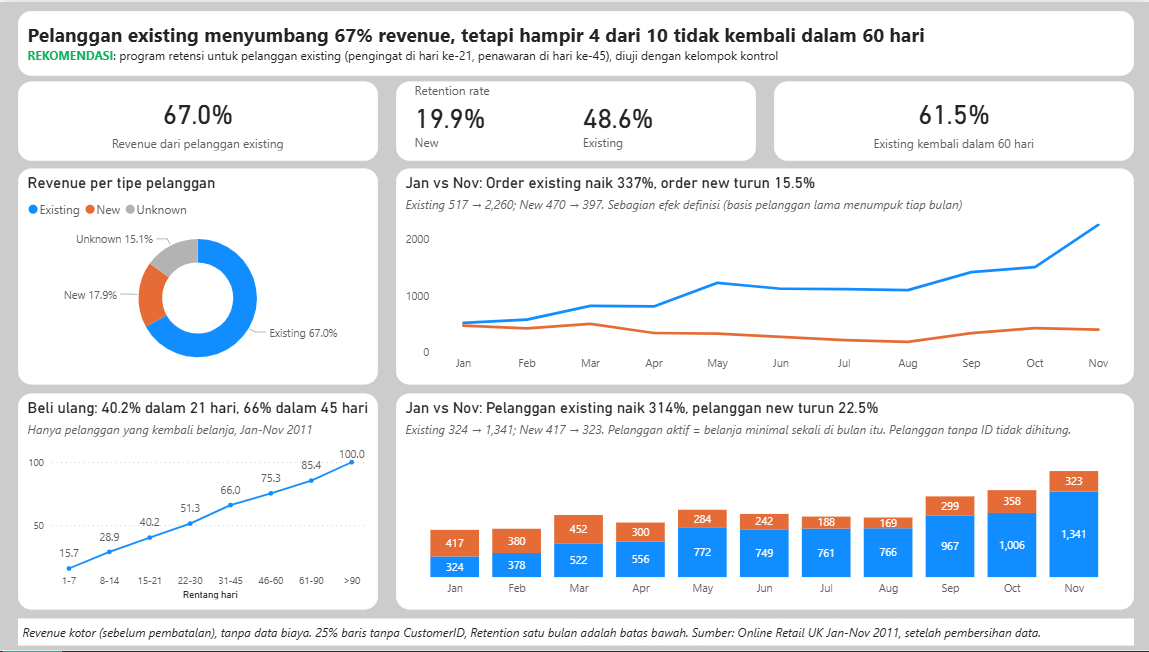

The dashboard page shown, as its layout file describes it:
{"tool":"powerbi","page":{"name":"Page 1","canvas":[1280,720],"ordinal":0},"visuals":[{"type":"donutChart","title":"Revenue per tipe pelanggan","fields":{"Category":["revenue_per_tipe.CustomerOrderType"],"Y":["Sum(revenue_per_tipe.gross_revenue)"]},"box":[20,185,400,240],"z":0},{"type":"lineChart","title":"Jan vs Nov: Order existing naik 337%, order new turun 15.5%","fields":{"Y":["Sum(order_per_tipe.order_existing)","Sum(order_per_tipe.order_new)"],"Category":["order_per_tipe.Month"]},"box":[440,185,820,240],"z":1000},{"type":"columnChart","title":"Jan vs Nov: Pelanggan existing naik 314%, pelanggan new turun 22.5%","fields":{"Category":["pelanggan_aktif_per_tipe.Month"],"Y":["Sum(pelanggan_aktif_per_tipe.pelanggan_existing)","Sum(pelanggan_aktif_per_tipe.pelanggan_new)"]},"box":[440,435,820,240],"z":2000},{"type":"card","fields":{"Values":["kpi.Revenue Existing %"]},"box":[20,88,400,88],"z":3000},{"type":"multiRowCard","title":"Retention rate","fields":{"Values":["kpi.Retention New %","kpi.Retention Existing %"]},"box":[440,88,400,88],"z":4000},{"type":"card","fields":{"Values":["kpi.Kembali 60 Hari %"]},"box":[860,88,400,88],"z":5000},{"type":"textbox","box":[20,10,1240,72],"z":6000},{"type":"textbox","box":[20,685,1240,30],"z":7000},{"type":"lineChart","title":"Beli ulang: 40.2% dalam 21 hari, 66% dalam 45 hari","fields":{"Category":["rentang_pembelian_kembali.rentang_hari"],"Y":["Sum(rentang_pembelian_kembali.kumulatif_pct)"]},"box":[20,435,400,240],"z":8000}]}

Visuals, with their boxes in screenshot pixels (x1, y1, x2, y2), scaled from the page's 1280x720 canvas onto the 1149x652 screenshot:
"Revenue per tipe pelanggan" donutChart: bbox=[18, 168, 377, 385]
"Jan vs Nov: Order existing naik 337%, order new turun 15.5%" lineChart: bbox=[395, 168, 1131, 385]
"Jan vs Nov: Pelanggan existing naik 314%, pelanggan new turun 22.5%" columnChart: bbox=[395, 394, 1131, 611]
card - kpi.Revenue Existing %: bbox=[18, 80, 377, 159]
"Retention rate" multiRowCard: bbox=[395, 80, 754, 159]
card - kpi.Kembali 60 Hari %: bbox=[772, 80, 1131, 159]
textbox: bbox=[18, 9, 1131, 74]
textbox: bbox=[18, 620, 1131, 647]
"Beli ulang: 40.2% dalam 21 hari, 66% dalam 45 hari" lineChart: bbox=[18, 394, 377, 611]
